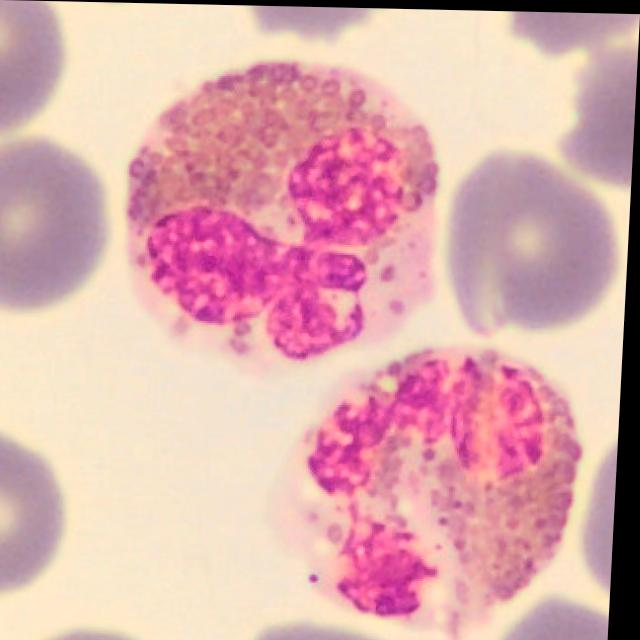Eosinofilo: (130, 58, 444, 360), (270, 344, 589, 640)
